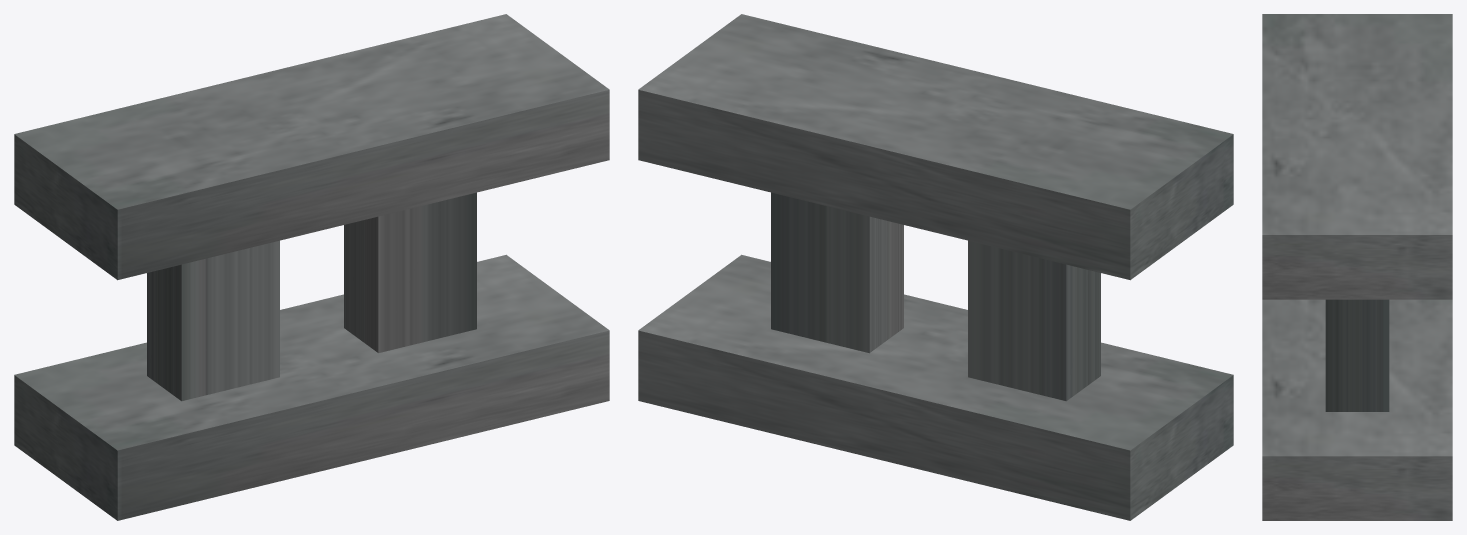
File: guardhail.fbx
3 renders of one model, left to right at view 1: azimuth 30°, elevation 25°; view 2: azimuth 150°, elevation 25°; view 3: azimuth 270°, elevation 25°, orthographic. The views are drawn at different scales.
Visible parts, largest first — view 1: Cube; view 2: Cube; view 3: Cube.
Boxes of the visible parts, x1,y1,x2,y2 form: Cube: [14, 14, 609, 520]; Cube: [638, 14, 1233, 520]; Cube: [1262, 14, 1452, 520].
Size of the model in its own units: 266 by 161 by 96.93.
Materials: 1 (1 with a texture image).
